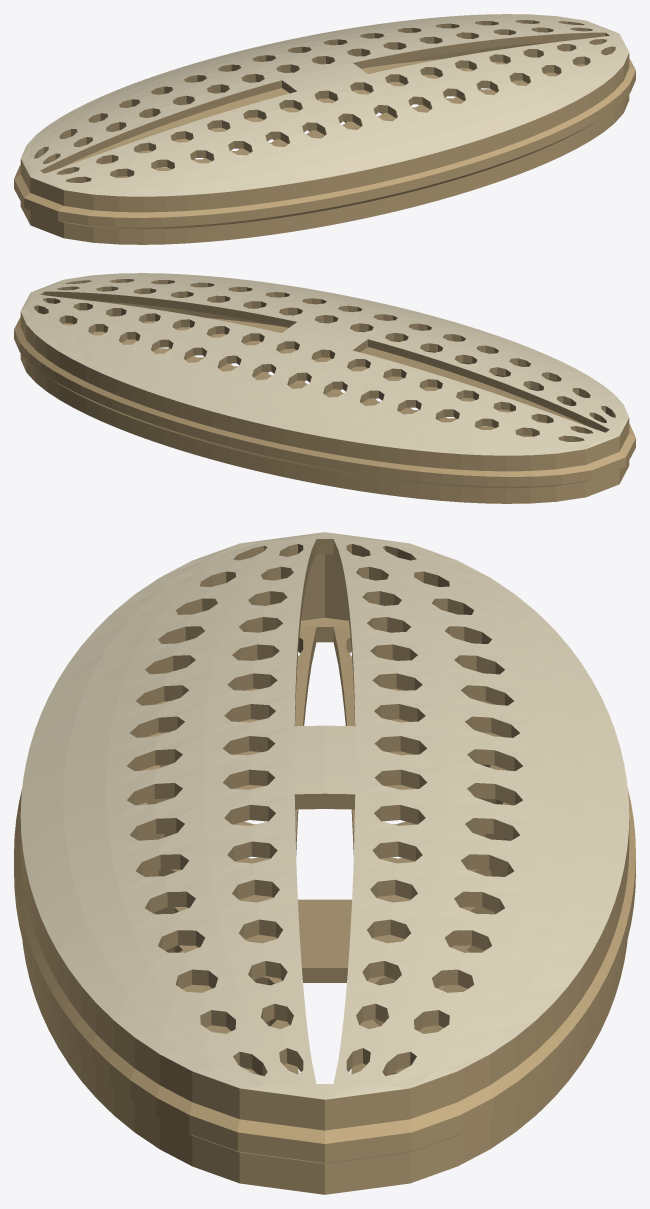
3 renders of one model, top to bottom at view 1: azimuth 30°, elevation 25°; view 2: azimuth 150°, elevation 25°; view 3: azimuth 270°, elevation 25°, orthographic. The views are drawn at different scales.
Parts seen in each view (by area): view 1: WholePerforatedValvesSplitRapheAndGirdle; view 2: WholePerforatedValvesSplitRapheAndGirdle; view 3: WholePerforatedValvesSplitRapheAndGirdle.
Boxes of the visible parts, x1=… form: WholePerforatedValvesSplitRapheAndGirdle: x1=14, y1=14, x2=635, y2=244; WholePerforatedValvesSplitRapheAndGirdle: x1=14, y1=273, x2=635, y2=503; WholePerforatedValvesSplitRapheAndGirdle: x1=14, y1=532, x2=635, y2=1194.
Bounding box in the file's own units: 2.62 × 0.4 × 1.19.
